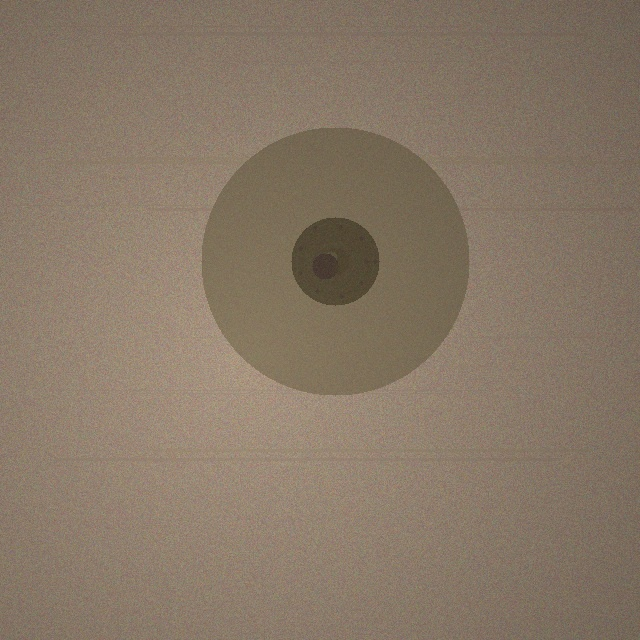cold_weld: (201, 127, 469, 395)
